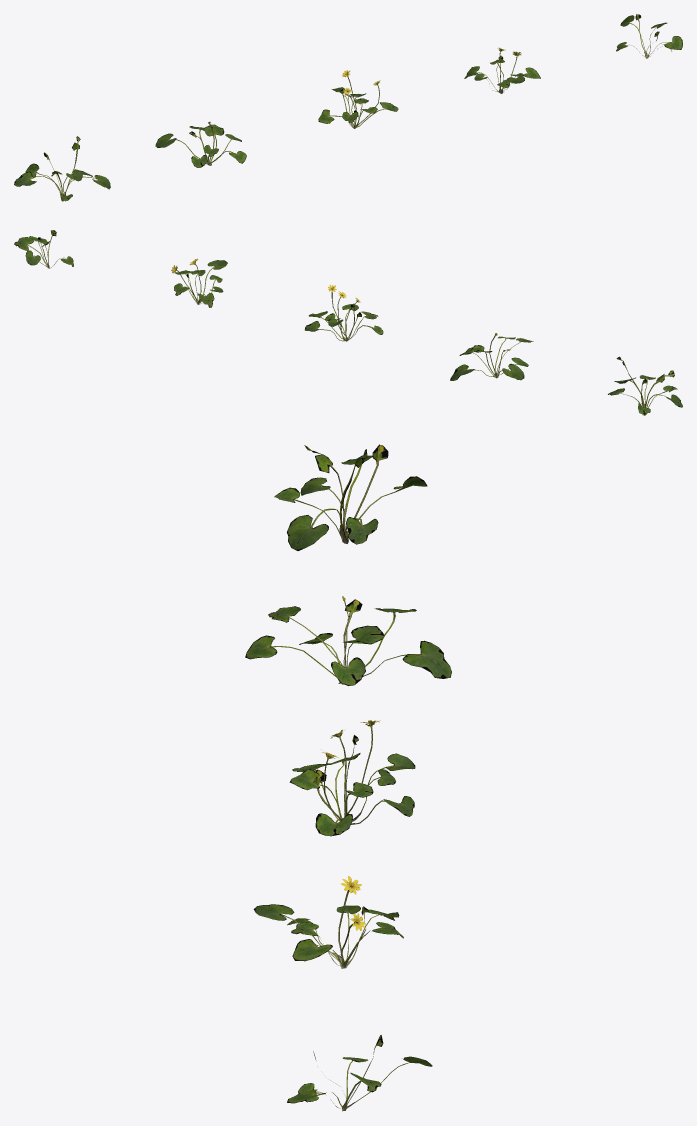
Rendered from WorldFlowerB.fbx.
The picture shows the model from 3 angles, top to bottom: view 1: azimuth 30°, elevation 25°; view 2: azimuth 150°, elevation 25°; view 3: azimuth 270°, elevation 25°; orthographic projection. The views are drawn at different scales.
Visible parts, largest first — view 1: WorldFlowerB; view 2: WorldFlowerB; view 3: WorldFlowerB.
Boxes of the visible parts, x1,y1,x2,y2 form: WorldFlowerB: [14, 14, 682, 201]; WorldFlowerB: [14, 230, 682, 415]; WorldFlowerB: [245, 444, 451, 1111].
Bounding box in the file's own units: 24.1 × 2 × 3.3.
1 material, 1 textured.
